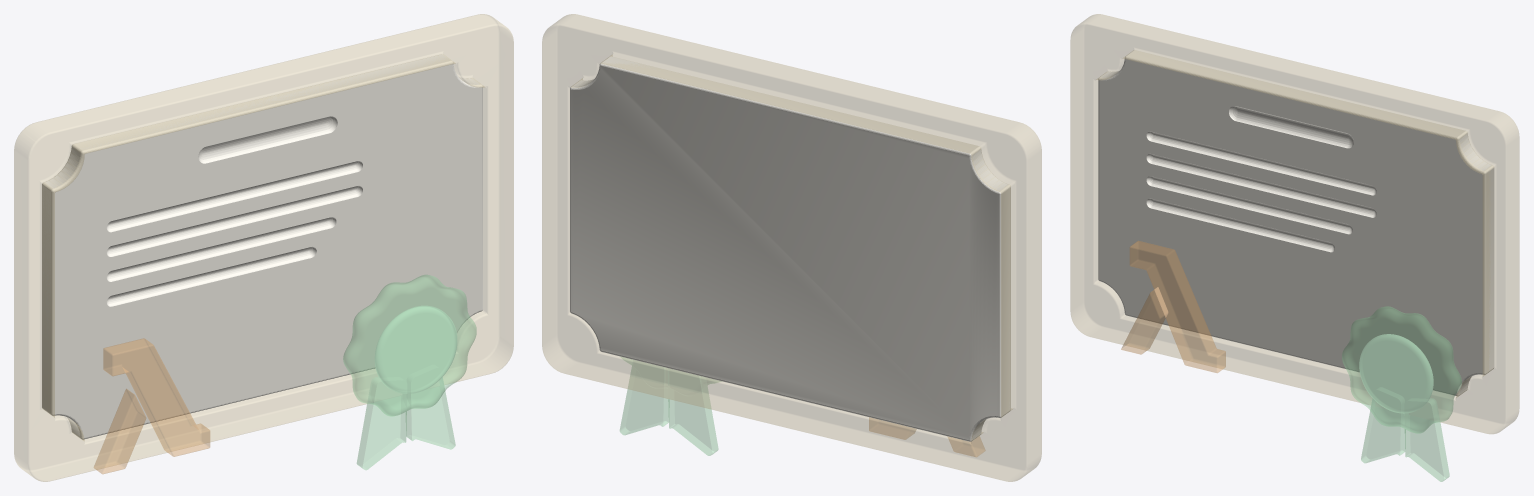
Rendered from lambda-permission.glb.
3 renders of one model, left to right at view 1: azimuth 30°, elevation 25°; view 2: azimuth 150°, elevation 25°; view 3: azimuth 330°, elevation 25°, orthographic. The views are drawn at different scales.
Visible parts, largest first — view 1: Engraved glass plaque, Amber certificate frame, Scalloped ribbon seal, Raised ribbon medallion, Lambda main diagonal, Ribbon tail left, Ribbon tail right, Lambda left leg; view 2: Engraved glass plaque, Amber certificate frame, Ribbon tail left, Ribbon tail right, Lambda main diagonal; view 3: Engraved glass plaque, Amber certificate frame, Scalloped ribbon seal, Lambda main diagonal, Raised ribbon medallion, Ribbon tail right, Ribbon tail left, Lambda left leg.
Part boxes in pixels (x1,y1,x2,y2): Engraved glass plaque: [42, 54, 482, 439]; Amber certificate frame: [14, 14, 513, 481]; Scalloped ribbon seal: [343, 275, 476, 416]; Raised ribbon medallion: [375, 306, 456, 393]; Lambda main diagonal: [103, 338, 209, 456]; Ribbon tail left: [357, 378, 406, 469]; Ribbon tail right: [406, 377, 455, 449]; Lambda left leg: [94, 389, 145, 473]; Engraved glass plaque: [570, 56, 1010, 441]; Amber certificate frame: [542, 14, 1041, 481]; Ribbon tail left: [668, 369, 718, 455]; Ribbon tail right: [620, 360, 669, 434]; Lambda main diagonal: [869, 417, 916, 439]; Engraved glass plaque: [1098, 50, 1494, 396]; Amber certificate frame: [1070, 14, 1519, 433]; Scalloped ribbon seal: [1342, 306, 1461, 433]; Lambda main diagonal: [1130, 241, 1225, 372]; Raised ribbon medallion: [1359, 334, 1433, 413]; Ribbon tail right: [1404, 399, 1449, 481]; Ribbon tail left: [1361, 399, 1405, 462]; Lambda left leg: [1121, 287, 1167, 354].
Bounding box in the file's own units: 4.4 × 3.54 × 0.46.
